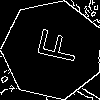F: (27, 25, 80, 65)
